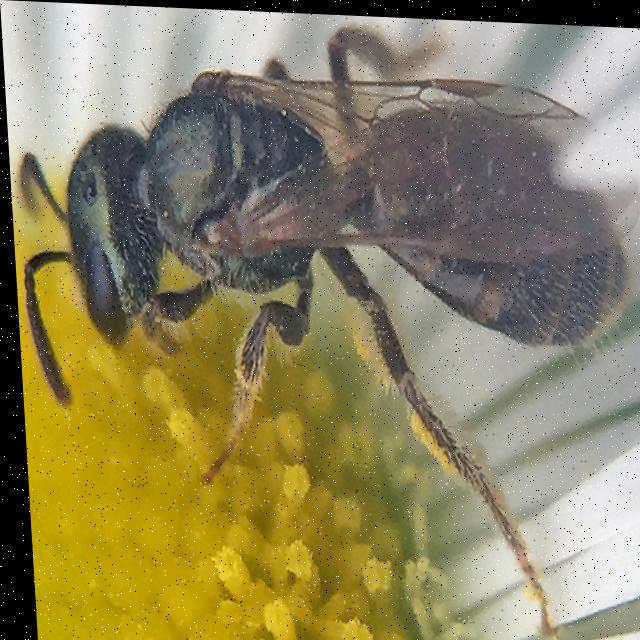Lasioglossum: (4, 2, 640, 640)
